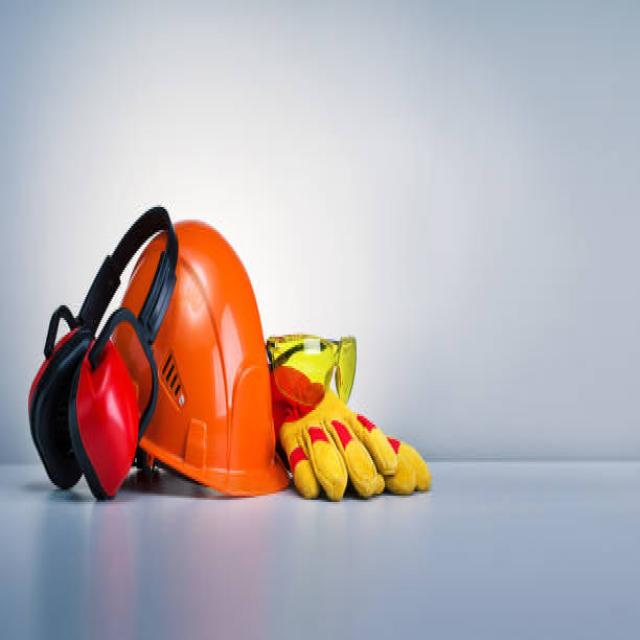Gloves: (266, 360, 434, 504)
helmet: (113, 218, 293, 497)
